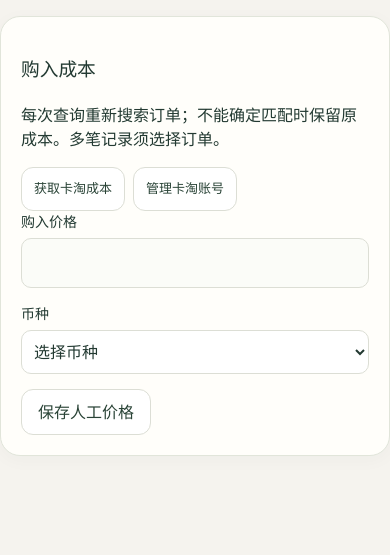
shows failed query and enables retry without changing ledger
Click the button "获取卡淘成本".
click(73, 188)  # box [21,166,125,210]
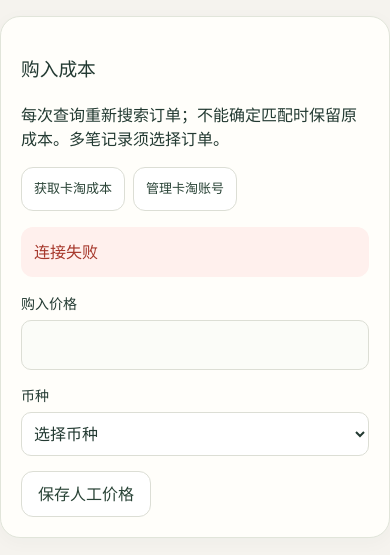
expect the text "连接失败" is shown: met, box [21,226,369,276]
